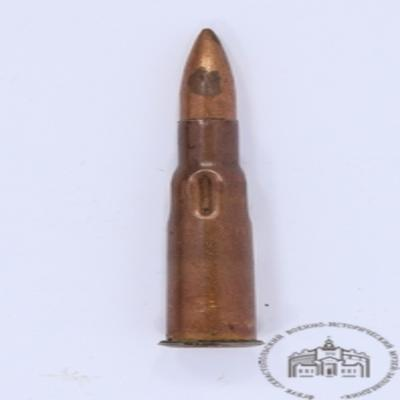weapon: (158, 29, 258, 348)
